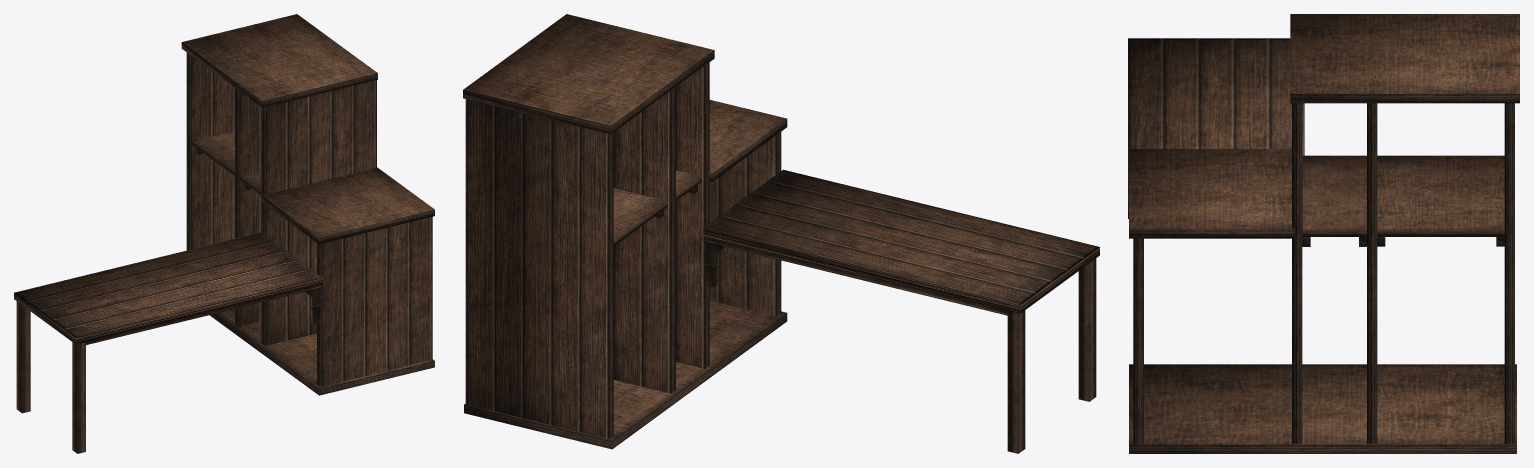
File: GS_VOB_TABLESHELVES_ORANGE_01_KOZA.glb
3 views of the same model, side by side, from view 1: azimuth 30°, elevation 25°; view 2: azimuth 150°, elevation 25°; view 3: azimuth 270°, elevation 25° (orthographic). The views are drawn at different scales.
Parts seen in each view (by area): view 1: Mesh; view 2: Mesh; view 3: Mesh.
Boxes of the visible parts, x1,y1,x2,y2 form: Mesh: [14, 14, 434, 453]; Mesh: [463, 14, 1099, 453]; Mesh: [1128, 14, 1519, 453].
Size of the model in its own units: 2.72 by 1.83 by 1.81.
3 materials, 3 textured.
